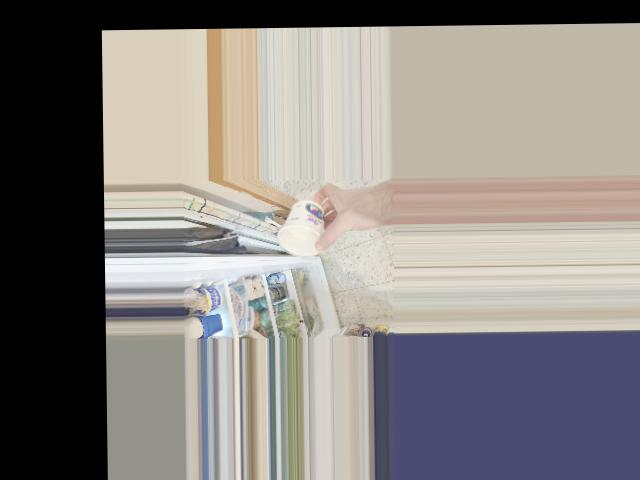cotage: (272, 205, 325, 249)
